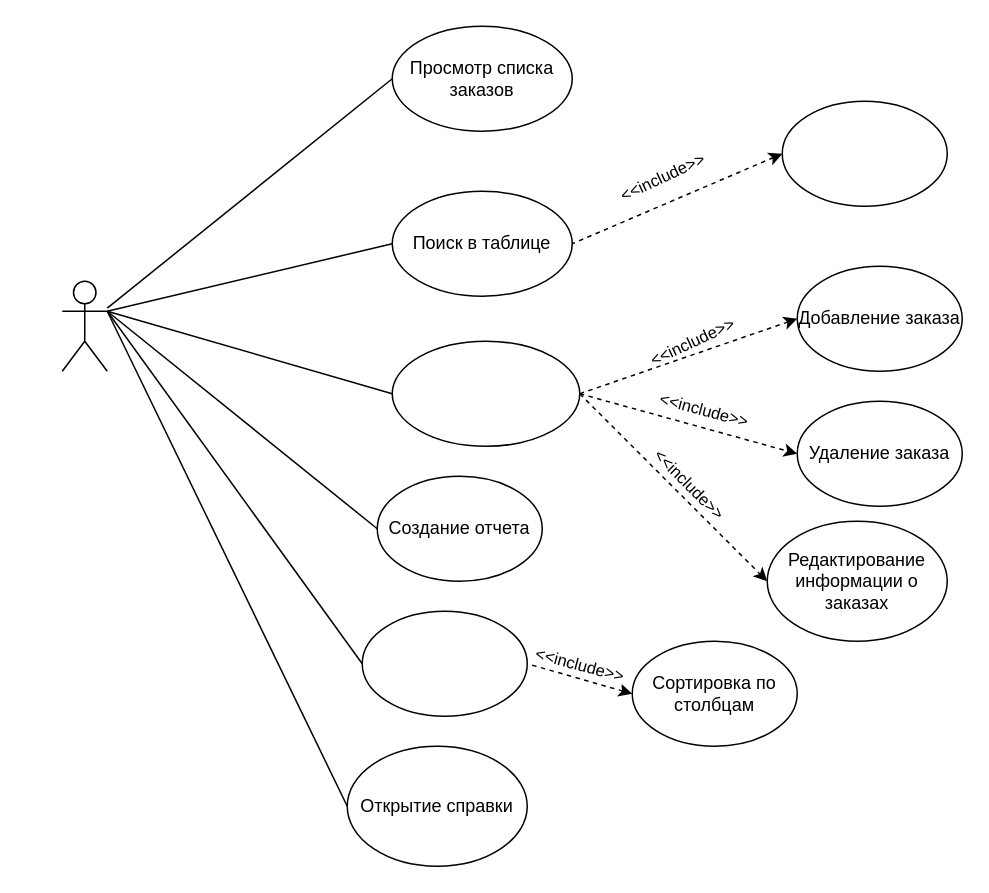
Image size: 989x893. Some labels were removed from this diagram. Here are the shapes that lost their labels. From the top down, the box of each, then its label:
(781, 100, 947, 206): Поиск по фильтрам
(61, 280, 107, 371): Пользователь
(391, 340, 580, 446): Редактирование списка клиентов и заказов
(361, 610, 527, 716): Сортировка таблицы
